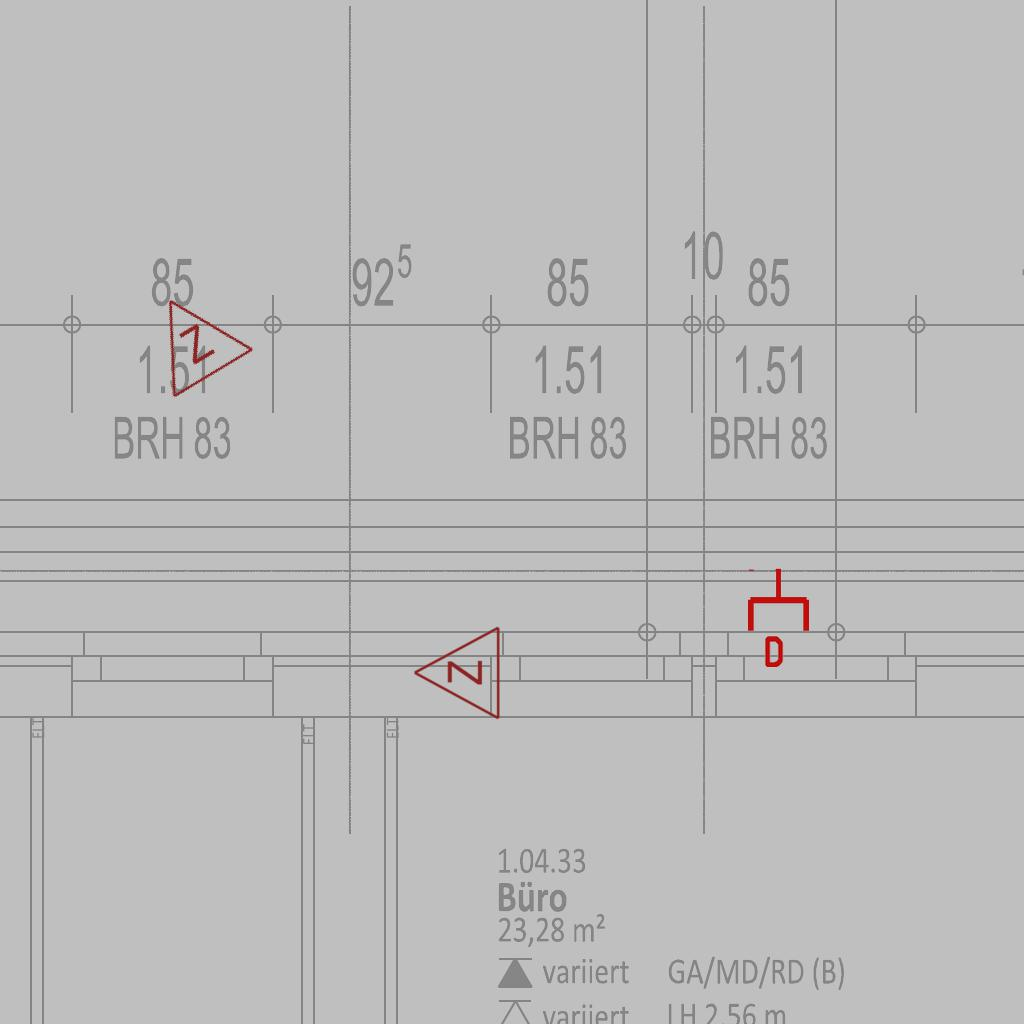Datenanschluss_einfach: (744, 567, 813, 667)
Zimmersignalleuchte: (123, 269, 259, 407), (407, 625, 507, 723)
